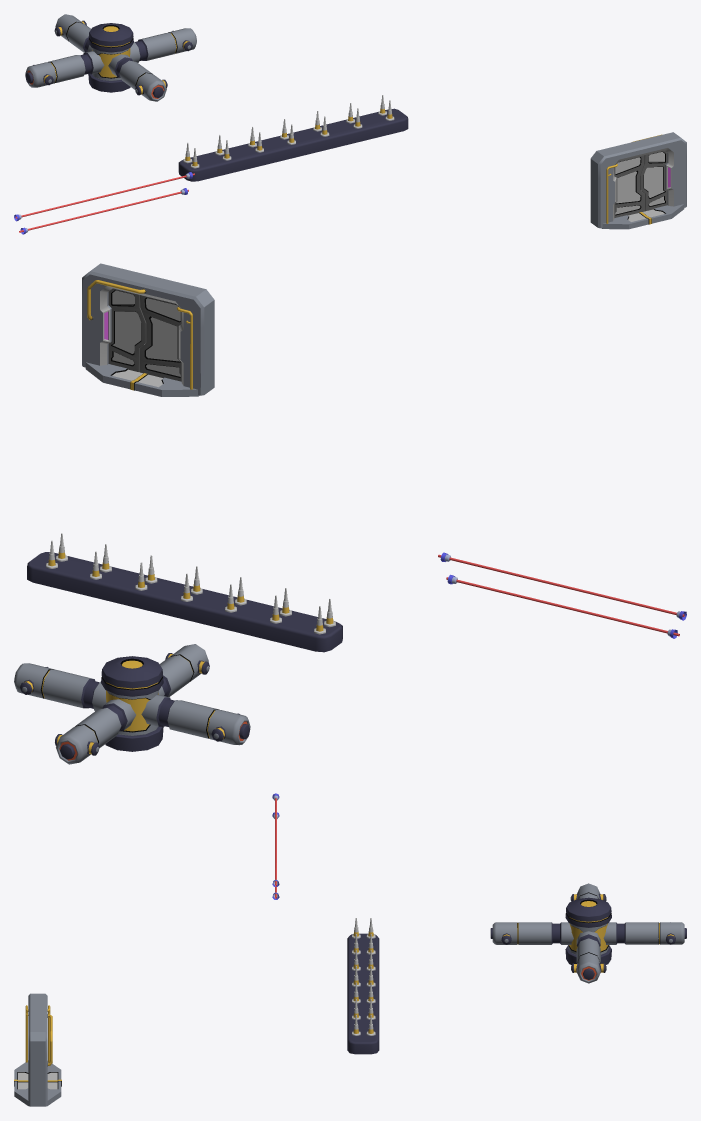
File: Level36_Objects.fbx
3 views of the same model, one above another, from view 1: azimuth 30°, elevation 25°; view 2: azimuth 150°, elevation 25°; view 3: azimuth 270°, elevation 25° (orthographic). The views are drawn at different scales.
Parts seen in each view (by area): view 1: Base (×2), pCylinder14 (×4), pCylinder13, Right, Left, Base5, Laser (×2); view 2: Base (×2), pCylinder14 (×4), pCylinder13, Right, Left, Base5, Laser; view 3: Base (×2), pCylinder14 (×3), pCylinder13, Base5.
Boxes of the visible parts, x1,y1,x2,y2 form: Base (×2): (178,108,686,228); pCylinder14 (×4): (25,14,196,101); pCylinder13: (88,23,133,92); Right: (614,155,645,217); Left: (640,150,667,211); Base5: (601,204,684,229); Laser (×2): (15,173,194,232); Base (×2): (27,263,342,652); pCylinder14 (×4): (14,644,250,764); pCylinder13: (101,656,163,751); Right: (139,295,181,381); Left: (108,288,146,371); Base5: (85,362,199,396); Laser: (438,554,684,616); Base (×2): (28,933,379,1106); pCylinder14 (×3): (490,922,686,983); pCylinder13: (565,897,611,964); Base5: (14,1060,61,1106).
Bounding box in the file's own units: 338 × 45.45 × 350.
